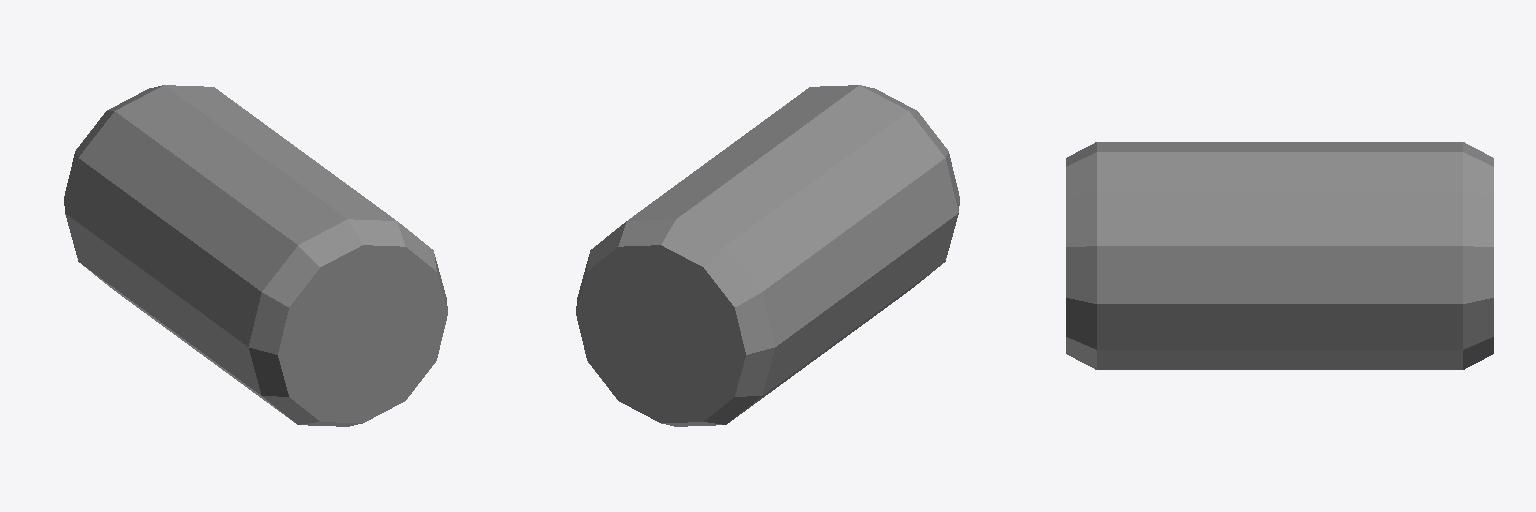
The model's file is weaponpack_01.obj.
The picture shows the model from 3 angles: view 1: azimuth 30°, elevation 25°; view 2: azimuth 150°, elevation 25°; view 3: azimuth 270°, elevation 25°; orthographic projection.
Visible parts, largest first — view 1: weaponpack_01; view 2: weaponpack_01; view 3: weaponpack_01.
Part boxes in pixels (bbox=[...]): weaponpack_01: bbox=[64, 85, 447, 426]; weaponpack_01: bbox=[576, 85, 959, 426]; weaponpack_01: bbox=[1066, 142, 1493, 369].
Size of the model in its own units: 101 by 101 by 189.